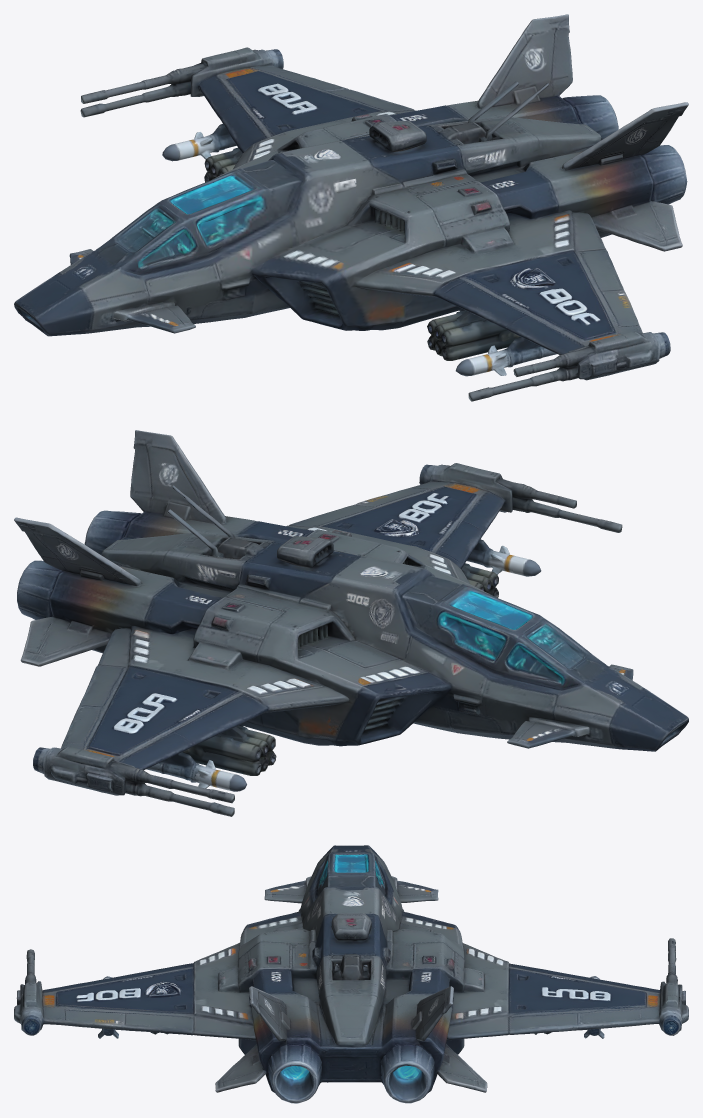
File: EDF Fighter.glb
The picture shows the model from 3 angles, top to bottom: view 1: azimuth 30°, elevation 25°; view 2: azimuth 150°, elevation 25°; view 3: azimuth 270°, elevation 25°; orthographic projection. The views are drawn at different scales.
Visible parts, largest first — view 1: tripo_node_4f183592-cbb4-4b1b-b894-57f92ff9f338; view 2: tripo_node_4f183592-cbb4-4b1b-b894-57f92ff9f338; view 3: tripo_node_4f183592-cbb4-4b1b-b894-57f92ff9f338.
Boxes of the visible parts, x1=… form: tripo_node_4f183592-cbb4-4b1b-b894-57f92ff9f338: x1=14, y1=14, x2=688, y2=401; tripo_node_4f183592-cbb4-4b1b-b894-57f92ff9f338: x1=14, y1=430, x2=688, y2=816; tripo_node_4f183592-cbb4-4b1b-b894-57f92ff9f338: x1=14, y1=845, x2=688, y2=1103.
Bounding box in the file's own units: 0.87 × 0.2178 × 1.
1 material, 1 textured.
